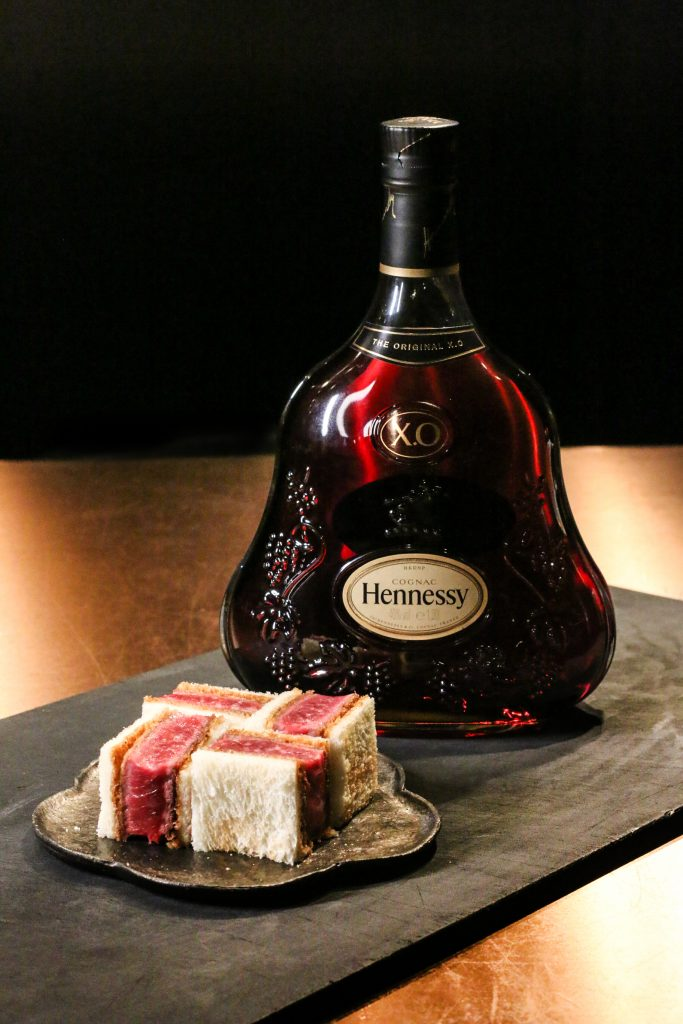Hennessy: (209, 88, 643, 760)
